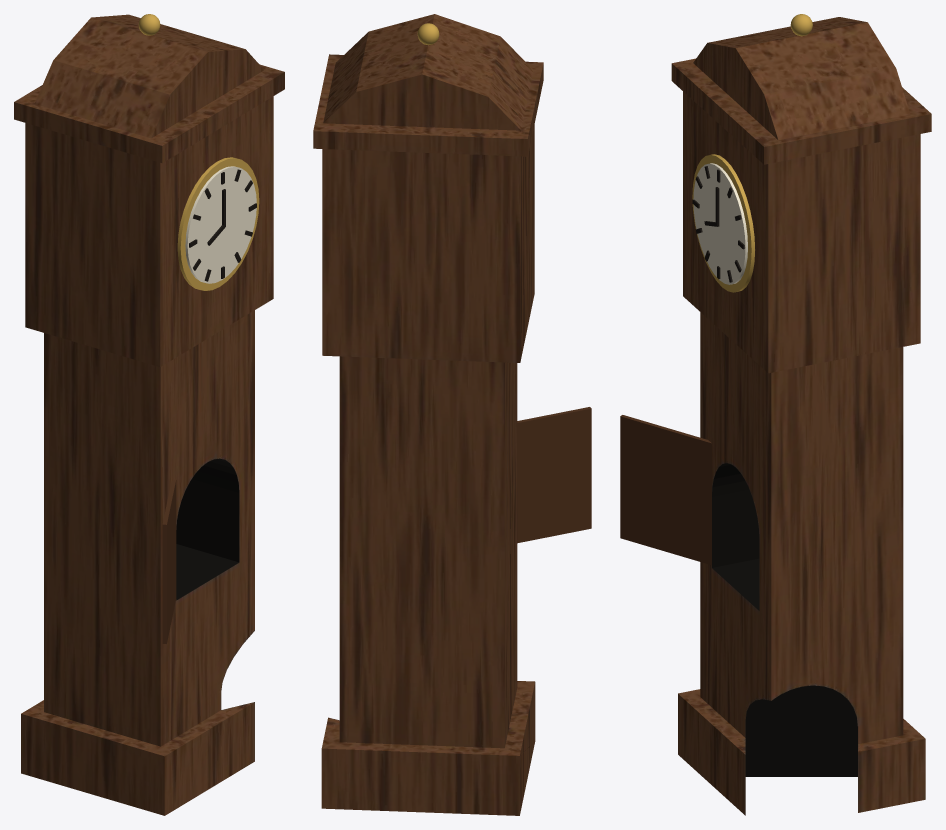
Rendered from grandfather-clock.glb.
3 views of the same model, side by side, from view 1: azimuth 30°, elevation 25°; view 2: azimuth 150°, elevation 25°; view 3: azimuth 270°, elevation 25° (orthographic). The views are drawn at different scales.
Parts seen in each view (by area): view 1: case, dial, brass, leaf, hands; view 2: case, leaf; view 3: case, leaf, dial, brass, hands.
Boxes of the visible parts, x1=… form: case: x1=14, y1=14, x2=284, y2=815; dial: x1=185, y1=166, x2=256, y2=283; brass: x1=138, y1=14, x2=259, y2=290; leaf: x1=162, y1=479, x2=176, y2=643; hands: x1=189, y1=169, x2=256, y2=281; case: x1=313, y1=14, x2=543, y2=815; leaf: x1=517, y1=407, x2=591, y2=543; case: x1=671, y1=17, x2=931, y2=815; leaf: x1=620, y1=415, x2=711, y2=565; dial: x1=693, y1=163, x2=747, y2=284; brass: x1=692, y1=14, x2=812, y2=292; hands: x1=692, y1=166, x2=744, y2=282.
Size of the model in its own units: 4.93 by 15 by 5.56.
Materials: 7 (1 with a texture image).
